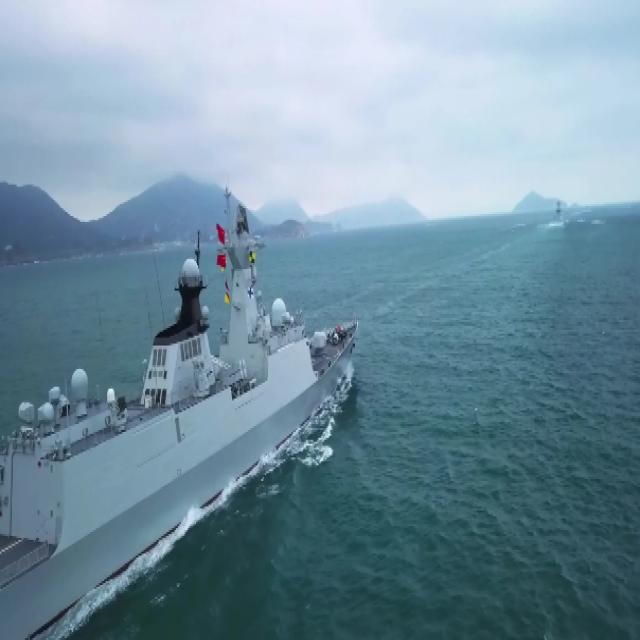navalvessels: (0, 202, 357, 640)
